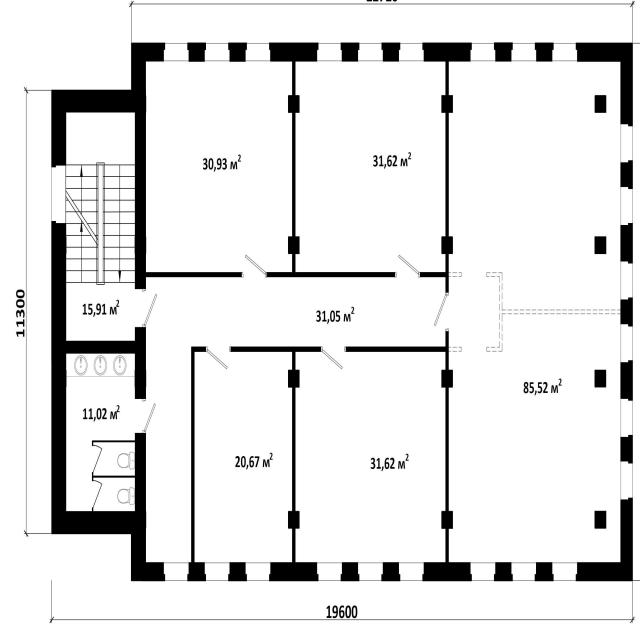Bathrooms: (66, 354, 134, 511), (94, 479, 135, 511), (94, 444, 135, 475)
Corridors: (146, 278, 445, 562)
Doors: (133, 289, 160, 327), (135, 399, 158, 434), (395, 251, 420, 279), (242, 251, 267, 277), (321, 346, 346, 372), (432, 293, 449, 330), (207, 346, 231, 372), (90, 479, 104, 509), (91, 444, 103, 474)
LBwalls: (51, 221, 165, 582), (51, 43, 165, 292), (576, 41, 633, 126), (269, 562, 319, 582), (422, 42, 472, 62), (423, 561, 472, 581), (269, 42, 318, 62), (621, 361, 634, 401), (621, 223, 634, 263), (620, 159, 632, 189), (535, 563, 553, 583), (621, 297, 633, 327), (621, 434, 633, 464), (188, 43, 206, 62), (228, 43, 246, 62), (341, 43, 359, 62), (382, 43, 400, 62), (494, 42, 512, 61), (535, 43, 553, 62), (341, 563, 359, 582), (382, 562, 400, 581), (494, 562, 512, 581), (228, 563, 246, 582), (188, 563, 206, 582), (594, 95, 606, 114), (595, 235, 607, 254), (442, 236, 454, 255), (441, 94, 453, 113), (288, 95, 300, 114), (288, 236, 300, 255), (594, 370, 606, 388), (594, 510, 606, 528), (441, 511, 453, 529), (288, 512, 300, 530), (288, 369, 300, 387), (441, 370, 453, 388)
Offices: (449, 61, 621, 562), (296, 62, 445, 272), (296, 353, 445, 561), (146, 62, 292, 272), (196, 353, 291, 561)
Stairs: (67, 113, 135, 341)
Walls: (345, 330, 449, 370), (191, 346, 208, 565), (265, 254, 397, 278), (230, 346, 324, 369), (419, 255, 449, 295), (146, 271, 243, 277), (91, 471, 135, 484), (292, 387, 296, 512), (445, 387, 449, 512), (92, 439, 135, 448), (446, 113, 449, 237), (292, 113, 295, 236), (445, 530, 449, 563), (292, 529, 296, 562), (446, 63, 449, 96), (292, 62, 295, 95), (92, 507, 94, 512)
Windows: (52, 165, 66, 223), (205, 43, 230, 63), (317, 562, 342, 582), (204, 562, 230, 581), (358, 43, 383, 62), (164, 43, 188, 62), (246, 43, 270, 62), (318, 43, 342, 62), (400, 43, 424, 62), (553, 43, 577, 62), (621, 461, 633, 499), (553, 562, 577, 581), (471, 43, 495, 61), (512, 43, 536, 61), (512, 563, 536, 581), (399, 563, 423, 581), (358, 563, 382, 581), (470, 563, 495, 580), (164, 563, 189, 580), (621, 125, 632, 163), (621, 187, 632, 225), (621, 262, 632, 300), (246, 563, 270, 580), (621, 400, 632, 437), (621, 325, 632, 361)
